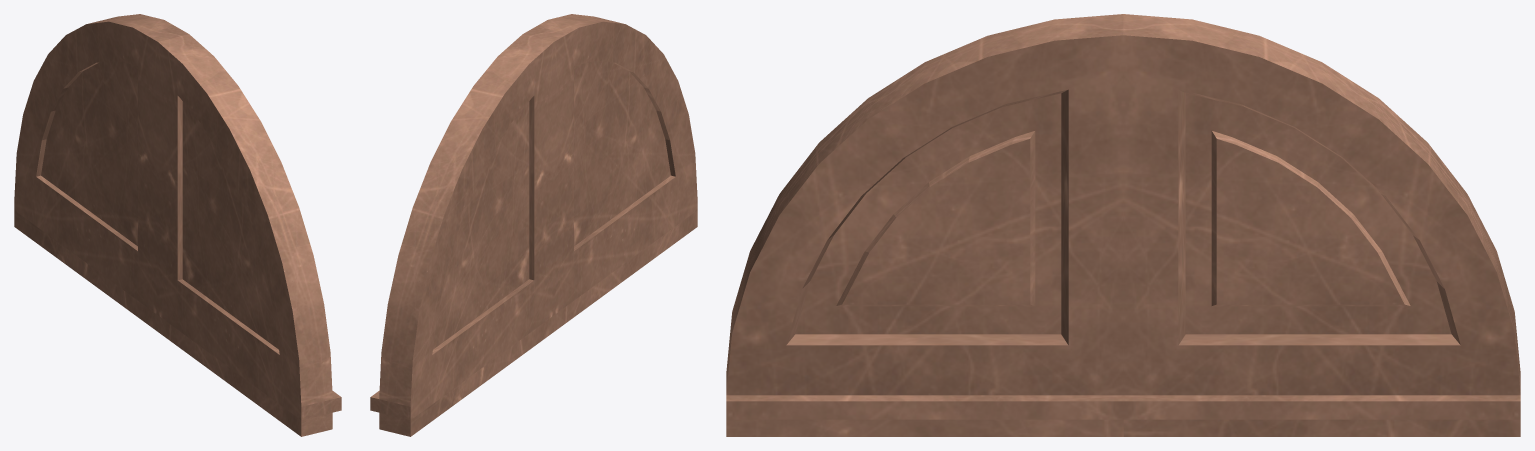
File: Escenario 5 puertaspt1.fbx
3 renders of one model, left to right at view 1: azimuth 30°, elevation 25°; view 2: azimuth 150°, elevation 25°; view 3: azimuth 270°, elevation 25°, orthographic. The views are drawn at different scales.
Parts seen in each view (by area): view 1: 23; view 2: 23; view 3: 23.
Part boxes in pixels (bbox=[...]): 23: bbox=[14, 14, 341, 436]; 23: bbox=[370, 14, 697, 436]; 23: bbox=[726, 14, 1520, 436].
Bounding box in the file's own units: 95.62 × 660 × 1184.
Materials: 1 (1 with a texture image).
